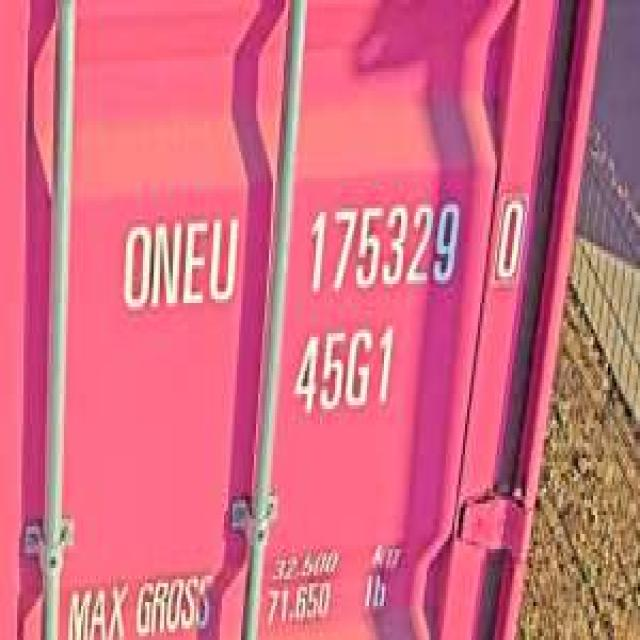dv: (491, 186, 527, 284)
owner: (115, 205, 241, 318)
serial: (301, 190, 461, 300)
size: (292, 314, 397, 420)
